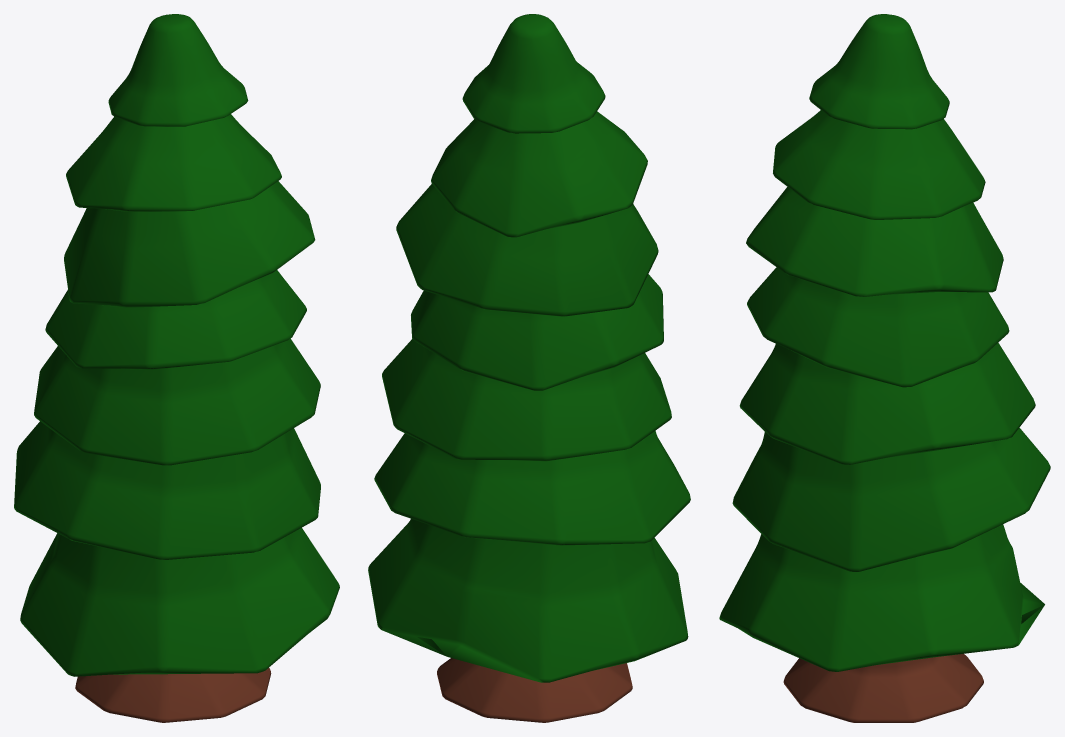
The model's file is drzewo.obj.
3 renders of one model, left to right at view 1: azimuth 30°, elevation 25°; view 2: azimuth 150°, elevation 25°; view 3: azimuth 270°, elevation 25°, orthographic.
Visible parts, largest first — view 1: Cylinder; view 2: Cylinder; view 3: Cylinder.
Part boxes in pixels (x1=…): Cylinder: x1=14, y1=14, x2=339, y2=722; Cylinder: x1=368, y1=14, x2=690, y2=722; Cylinder: x1=719, y1=14, x2=1050, y2=722.
Size of the model in its own units: 4.21 by 9.58 by 4.33.
